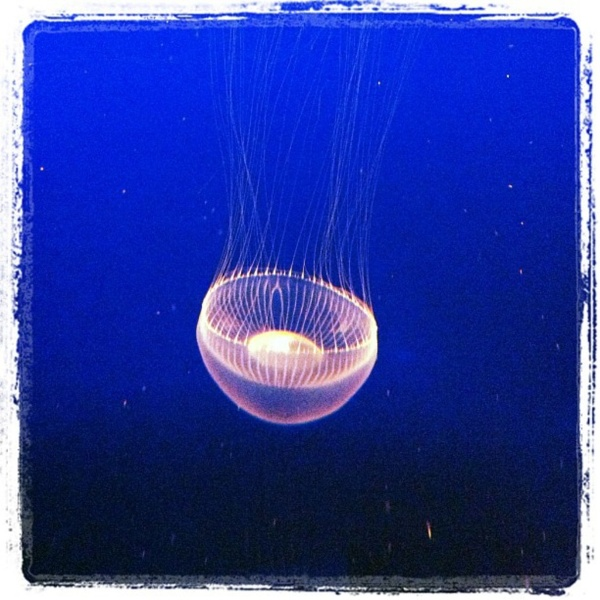Jellyfish: (159, 54, 430, 456)
